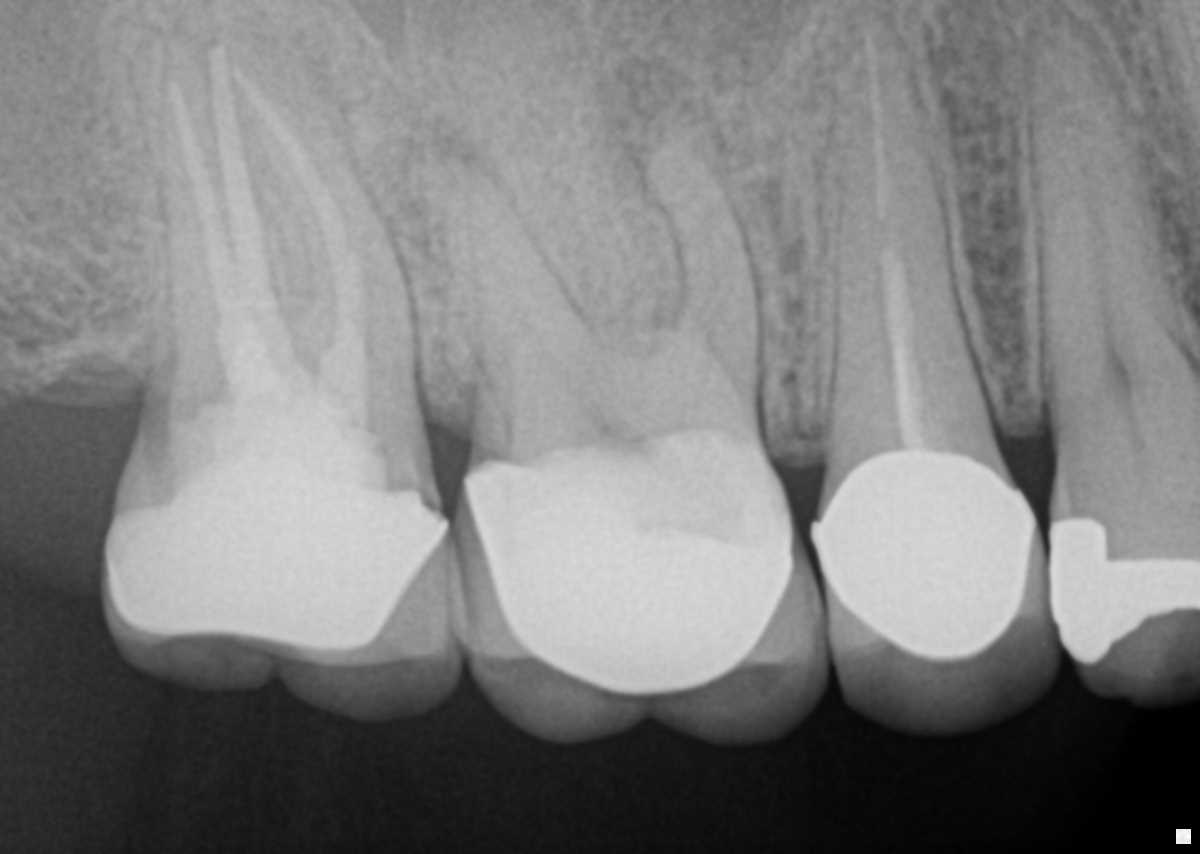Apical Lesion: (583, 56, 721, 214), (380, 117, 506, 271)
Distal Canal: (483, 266, 593, 396)
Distal Root: (133, 25, 297, 388), (413, 164, 613, 425)
Main Canal: (1079, 155, 1132, 396)
Main Root: (826, 27, 990, 439), (1030, 16, 1200, 408)
Mesial Root: (228, 54, 413, 388), (650, 144, 765, 405)
Palatal Root: (450, 0, 725, 393), (167, 0, 391, 416)
Root Canal Filling: (238, 67, 367, 399), (207, 42, 314, 395), (161, 77, 269, 373), (880, 246, 926, 425), (865, 31, 894, 221)
